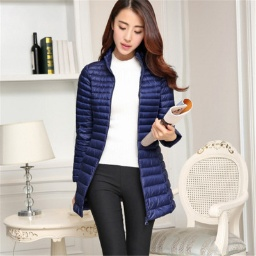face: (104, 1, 161, 65)
